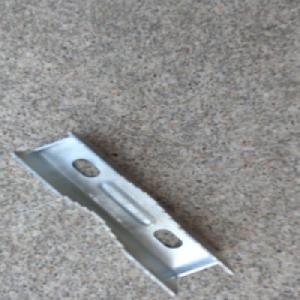ClampPart: (11, 130, 236, 297)
